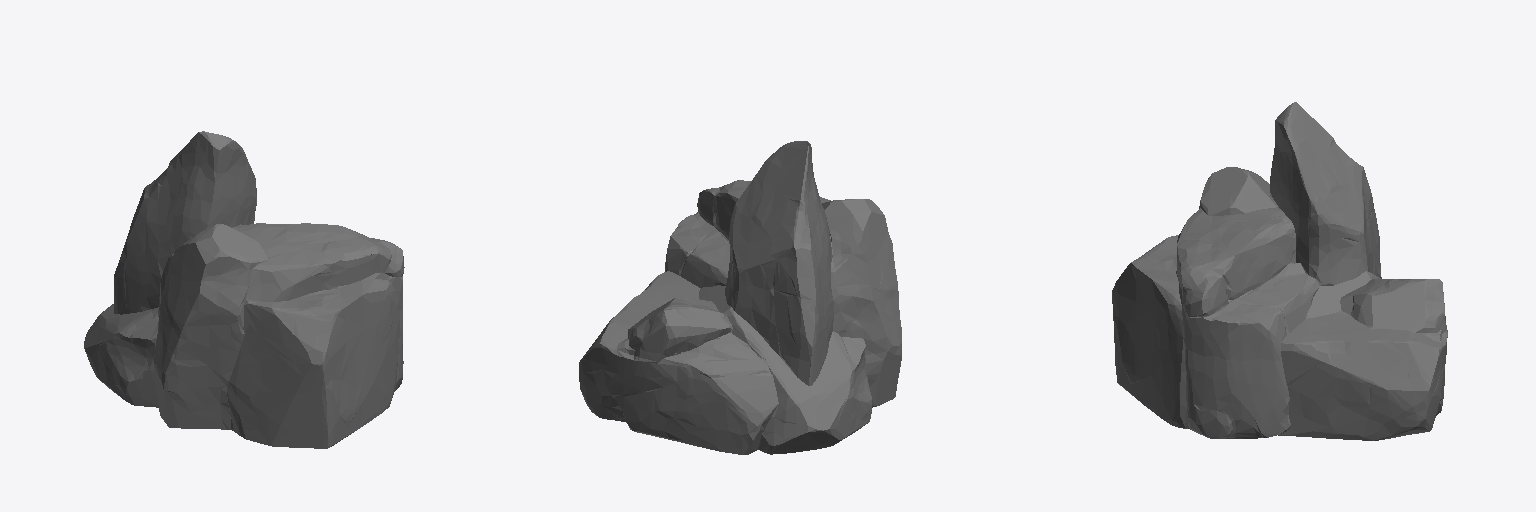
File: SM_Rock_Formation_04.obj
3 renders of one model, left to right at view 1: azimuth 30°, elevation 25°; view 2: azimuth 150°, elevation 25°; view 3: azimuth 270°, elevation 25°, orthographic.
Parts seen in each view (by area): view 1: SM_Rock_Formation_04; view 2: SM_Rock_Formation_04; view 3: SM_Rock_Formation_04.
Boxes of the visible parts, x1=… form: SM_Rock_Formation_04: x1=84, y1=131, x2=404, y2=448; SM_Rock_Formation_04: x1=579, y1=141, x2=901, y2=454; SM_Rock_Formation_04: x1=1112, y1=102, x2=1447, y2=440.
Bounding box in the file's own units: 347 × 369 × 429.